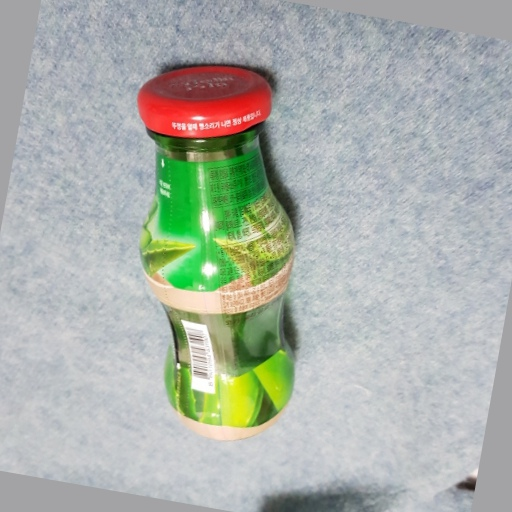Glass_4: (129, 59, 308, 437)
